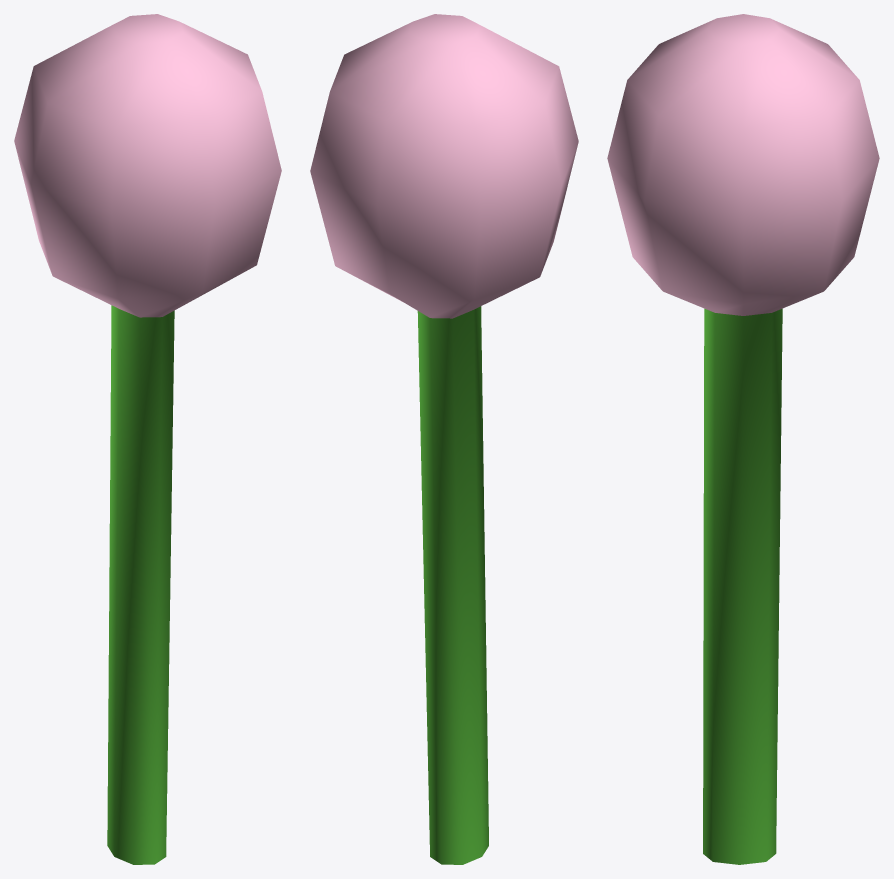
File: Flower_14.fbx
3 views of the same model, side by side, from view 1: azimuth 30°, elevation 25°; view 2: azimuth 150°, elevation 25°; view 3: azimuth 270°, elevation 25° (orthographic).
Visible parts, largest first — view 1: Flower_14; view 2: Flower_14; view 3: Flower_14.
Part boxes in pixels (x1=…): Flower_14: x1=14, y1=14, x2=281, y2=864; Flower_14: x1=310, y1=14, x2=578, y2=864; Flower_14: x1=607, y1=14, x2=879, y2=864.
Size of the model in its own units: 17.3 by 57.75 by 17.16.
